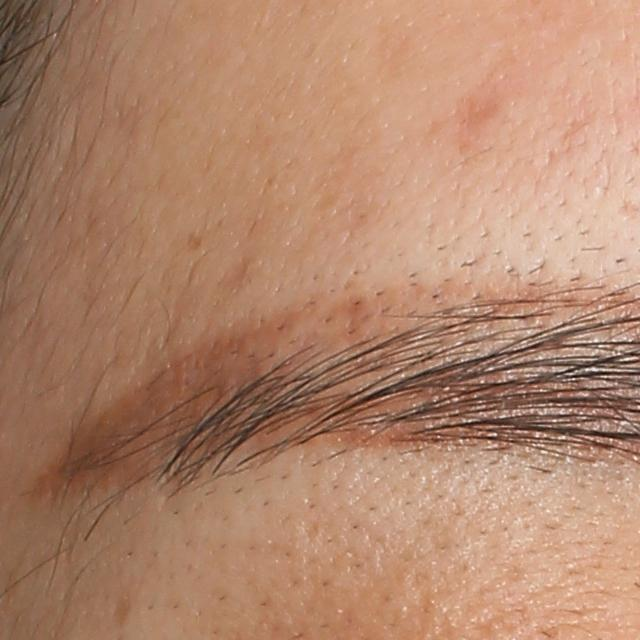melasma: (114, 594, 137, 637)
